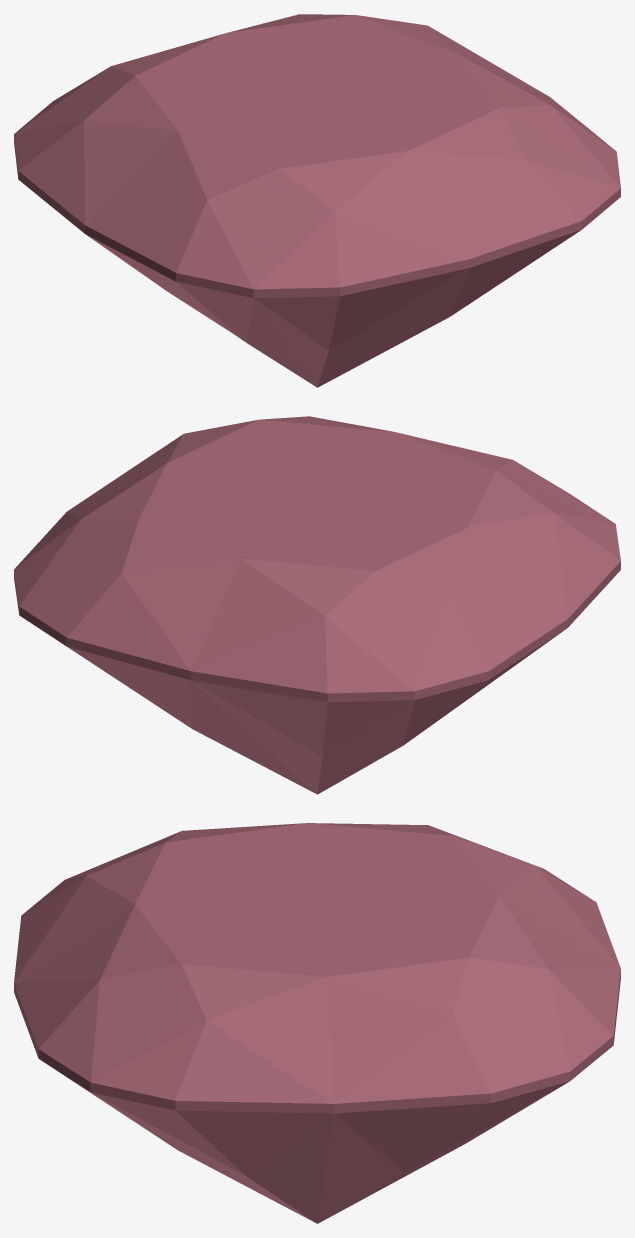
File: stone-garnet.glb
3 renders of one model, top to bottom at view 1: azimuth 30°, elevation 25°; view 2: azimuth 150°, elevation 25°; view 3: azimuth 270°, elevation 25°, orthographic. The views are drawn at different scales.
Parts seen in each view (by area): view 1: Gemstone Garnet; view 2: Gemstone Garnet; view 3: Gemstone Garnet.
Part boxes in pixels (bbox=[...]): Gemstone Garnet: bbox=[14, 14, 620, 387]; Gemstone Garnet: bbox=[14, 416, 620, 794]; Gemstone Garnet: bbox=[14, 823, 620, 1223].
Size of the model in its own units: 2 by 1.18 by 2.
